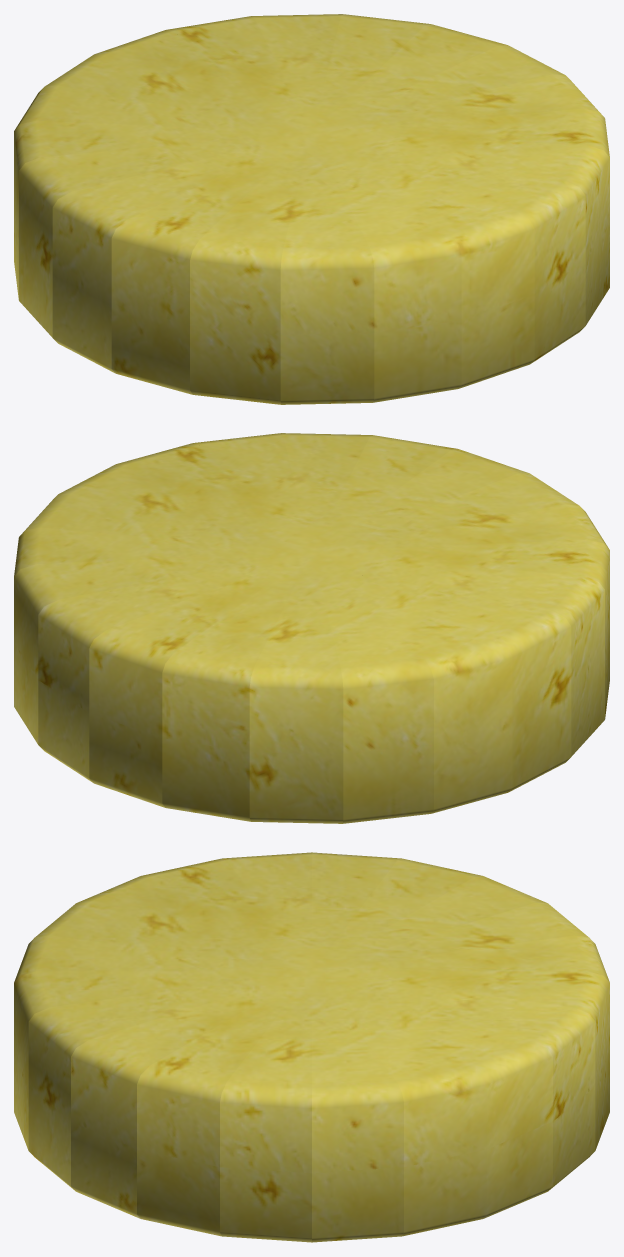
The model's file is Cheese_sliced.fbx.
3 renders of one model, top to bottom at view 1: azimuth 30°, elevation 25°; view 2: azimuth 150°, elevation 25°; view 3: azimuth 270°, elevation 25°, orthographic.
Parts seen in each view (by area): view 1: Slice7, Slice8, Slice6, Slice9, Slice5, Slice10, Slice4, Slice11, Slice3, Slice12, Slice2, Slice13 (+8 smaller); view 2: Slice14, Slice13, Slice15, Slice12, Slice16, Slice11, Slice17, Slice10, Slice18, Slice9, Slice19, Slice8 (+8 smaller); view 3: Slice1, Slice20, Slice2, Slice19, Slice3, Slice18, Slice4, Slice17, Slice5, Slice16, Slice6, Slice15 (+8 smaller).
Part boxes in pixels (bbox=[...]): Slice7: bbox=[280, 133, 374, 404]; Slice8: bbox=[190, 133, 311, 404]; Slice6: bbox=[312, 133, 461, 402]; Slice9: bbox=[111, 133, 310, 394]; Slice5: bbox=[312, 133, 534, 388]; Slice10: bbox=[52, 133, 311, 373]; Slice4: bbox=[313, 133, 585, 363]; Slice11: bbox=[19, 133, 310, 337]; Slice3: bbox=[313, 133, 609, 325]; Slice12: bbox=[14, 120, 309, 299]; Slice2: bbox=[313, 108, 609, 156]; Slice13: bbox=[14, 85, 310, 132]; Slice14: bbox=[249, 552, 343, 823]; Slice13: bbox=[312, 552, 433, 823]; Slice15: bbox=[162, 552, 311, 821]; Slice12: bbox=[313, 552, 512, 813]; Slice16: bbox=[89, 552, 311, 807]; Slice11: bbox=[312, 552, 571, 792]; Slice17: bbox=[38, 552, 310, 782]; Slice10: bbox=[313, 552, 604, 756]; Slice18: bbox=[14, 552, 310, 744]; Slice9: bbox=[314, 539, 609, 718]; Slice19: bbox=[14, 527, 310, 575]; Slice8: bbox=[313, 504, 609, 551]; Slice1: bbox=[220, 972, 311, 1242]; Slice20: bbox=[312, 972, 403, 1242]; Slice2: bbox=[137, 971, 311, 1236]; Slice19: bbox=[312, 971, 486, 1236]; Slice3: bbox=[71, 972, 310, 1218]; Slice18: bbox=[313, 972, 552, 1218]; Slice4: bbox=[28, 971, 311, 1191]; Slice17: bbox=[312, 971, 595, 1191]; Slice5: bbox=[14, 971, 310, 1150]; Slice16: bbox=[313, 971, 609, 1150]; Slice6: bbox=[14, 935, 309, 982]; Slice15: bbox=[314, 935, 609, 982].
Bounding box in the file's own units: 0.2562 × 0.0722 × 0.2562.
